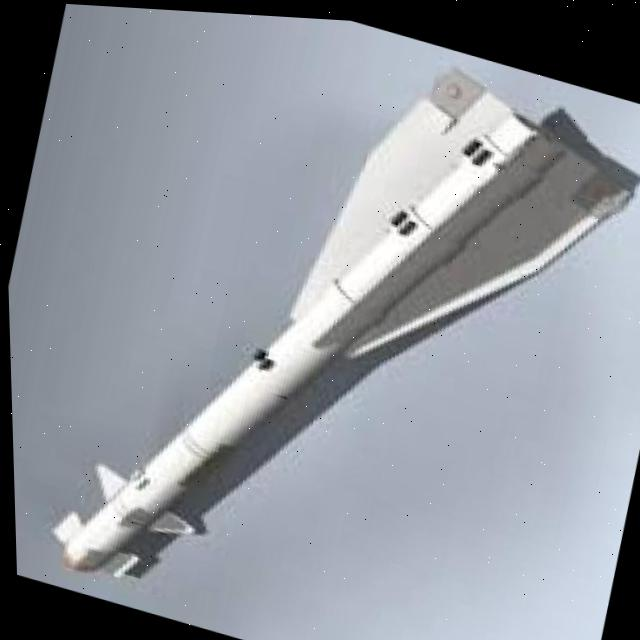missile: (31, 1, 640, 640)
